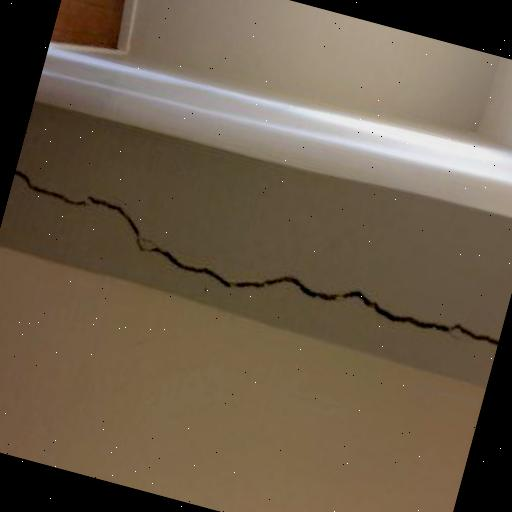spalling: (11, 157, 497, 351)
